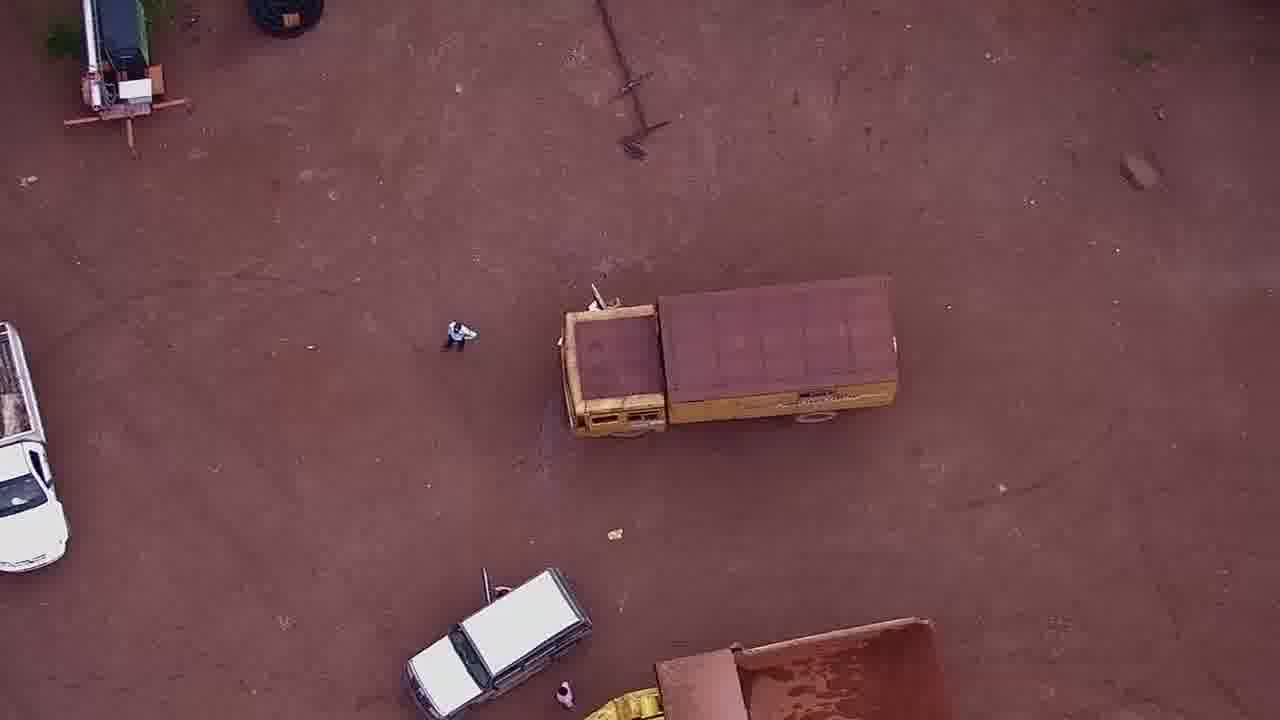HMV: (556, 270, 902, 445)
LMV: (392, 560, 593, 720), (1, 314, 70, 573)
Person: (438, 310, 477, 357), (550, 679, 579, 708)
